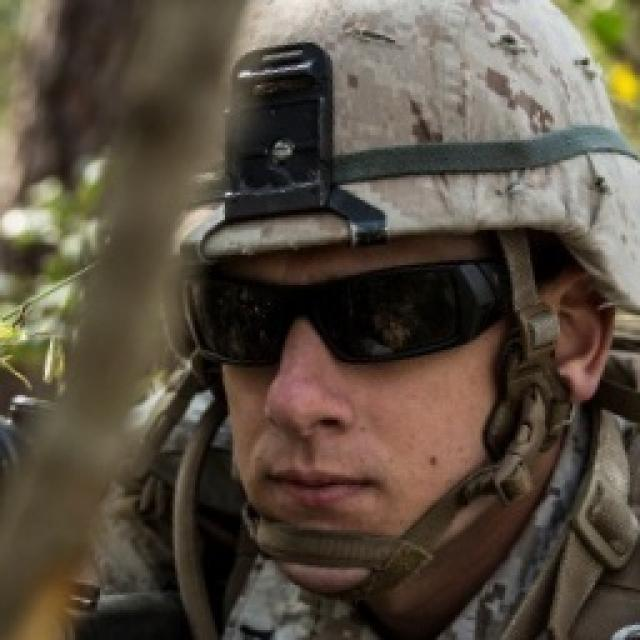glasses: (175, 260, 516, 378)
